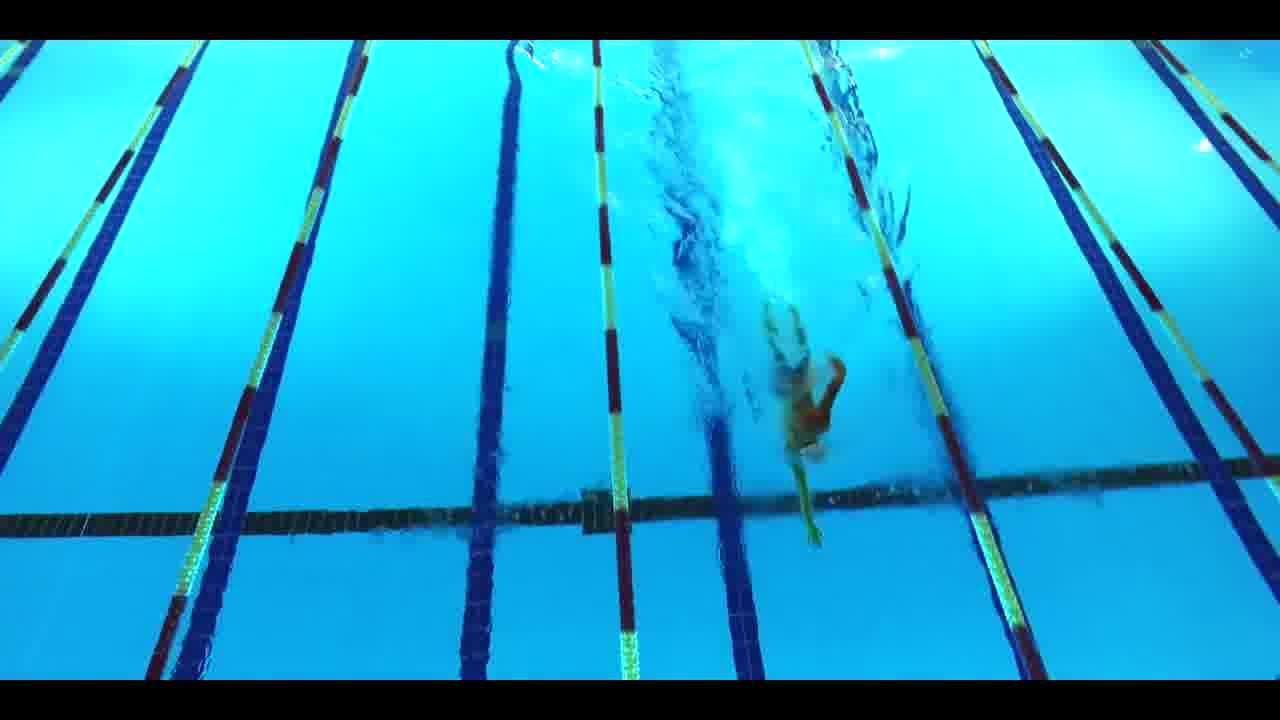human: (760, 292, 857, 558)
